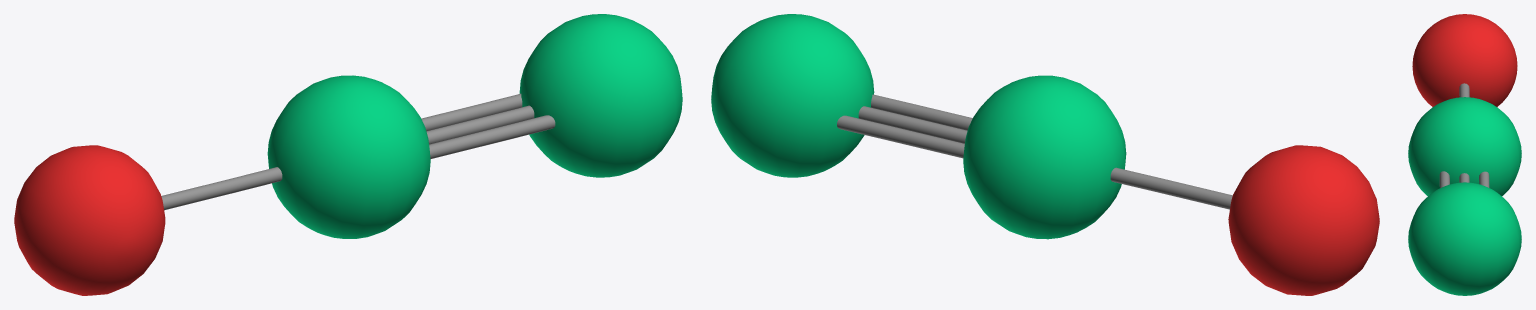
3 views of the same model, side by side, from view 1: azimuth 30°, elevation 25°; view 2: azimuth 150°, elevation 25°; view 3: azimuth 270°, elevation 25° (orthographic). The views are drawn at different scales.
Parts seen in each view (by area): view 1: N2O; view 2: N2O; view 3: N2O.
Boxes of the visible parts, bbox=[...] form: N2O: bbox=[14, 14, 682, 295]; N2O: bbox=[711, 14, 1379, 295]; N2O: bbox=[1408, 14, 1521, 295].
Size of the model in its own units: 9.13 by 2 by 2.
